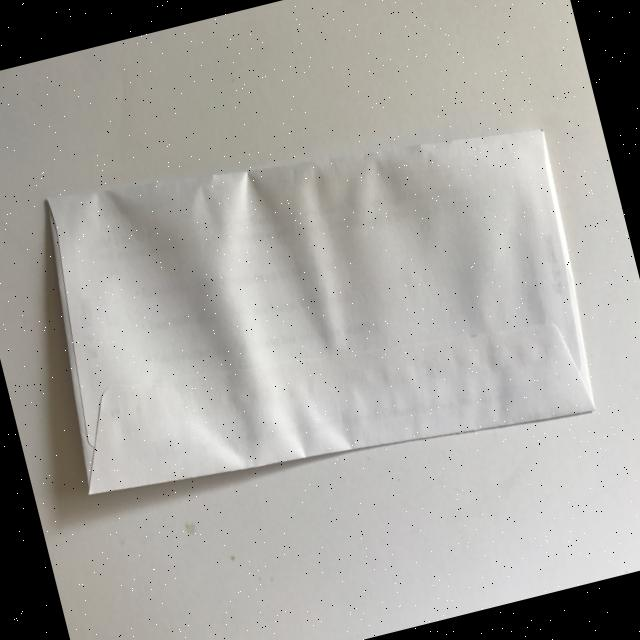paper: (15, 76, 612, 536)
